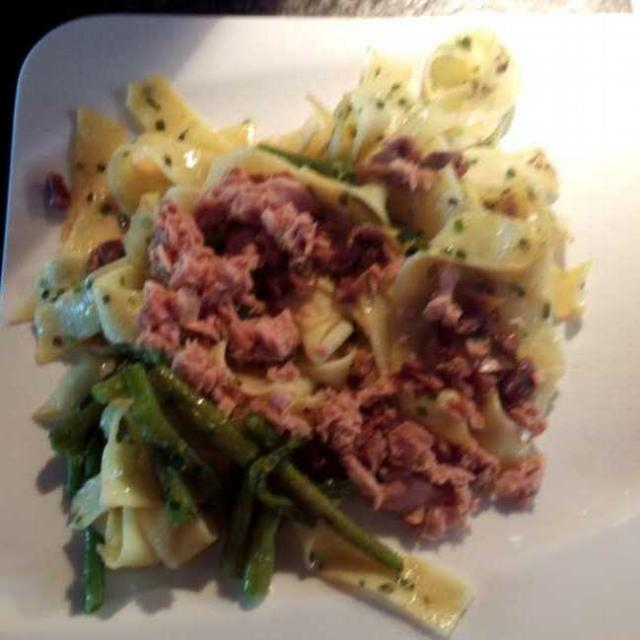french-beans: (54, 322, 404, 619)
pasta-linguini-parpadelle-tagliatelle: (49, 38, 572, 637)
tuna: (138, 120, 546, 546)
